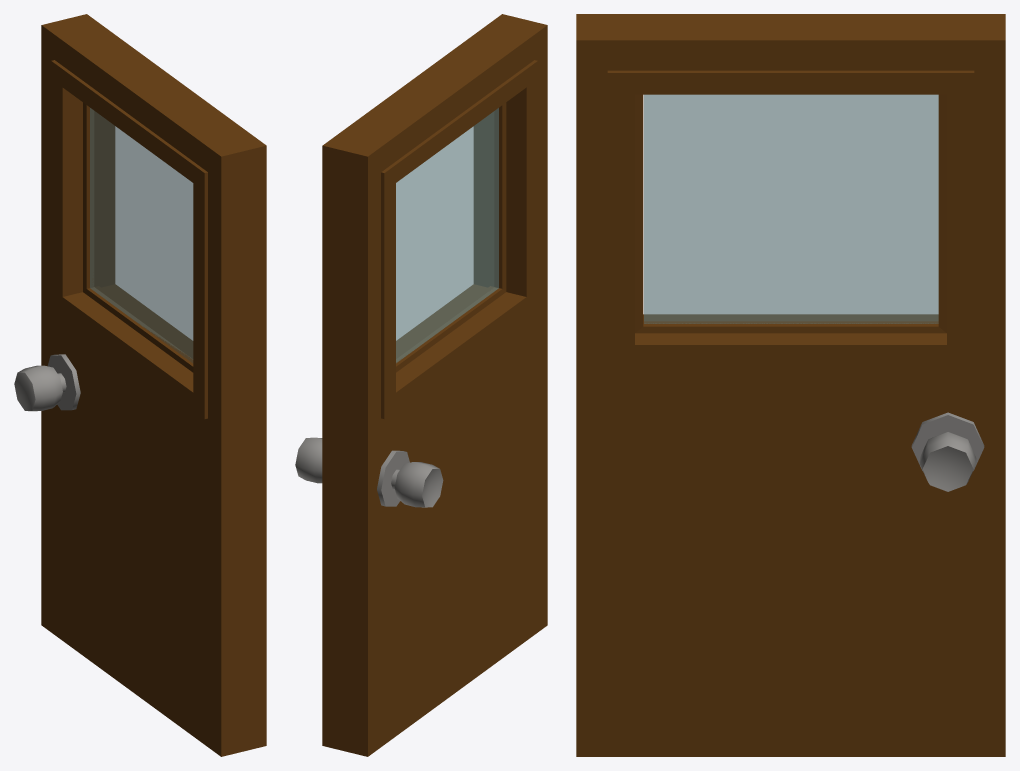
The model's file is Door.fbx.
The picture shows the model from 3 angles, left to right: view 1: azimuth 30°, elevation 25°; view 2: azimuth 150°, elevation 25°; view 3: azimuth 270°, elevation 25°; orthographic projection. The views are drawn at different scales.
Visible parts, largest first — view 1: Door, Door_Window; view 2: Door, Door_Window; view 3: Door, Door_Window.
Boxes of the visible parts, x1,y1,x2,y2 form: Door: [14, 14, 266, 756]; Door_Window: [90, 108, 193, 362]; Door: [295, 14, 547, 756]; Door_Window: [396, 108, 498, 362]; Door: [576, 14, 1005, 756]; Door_Window: [644, 94, 938, 323].
Bounding box in the file's own units: 48.34 × 219 × 119.
